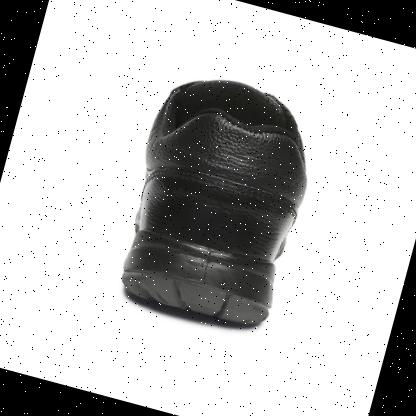bota: (100, 56, 334, 342)
